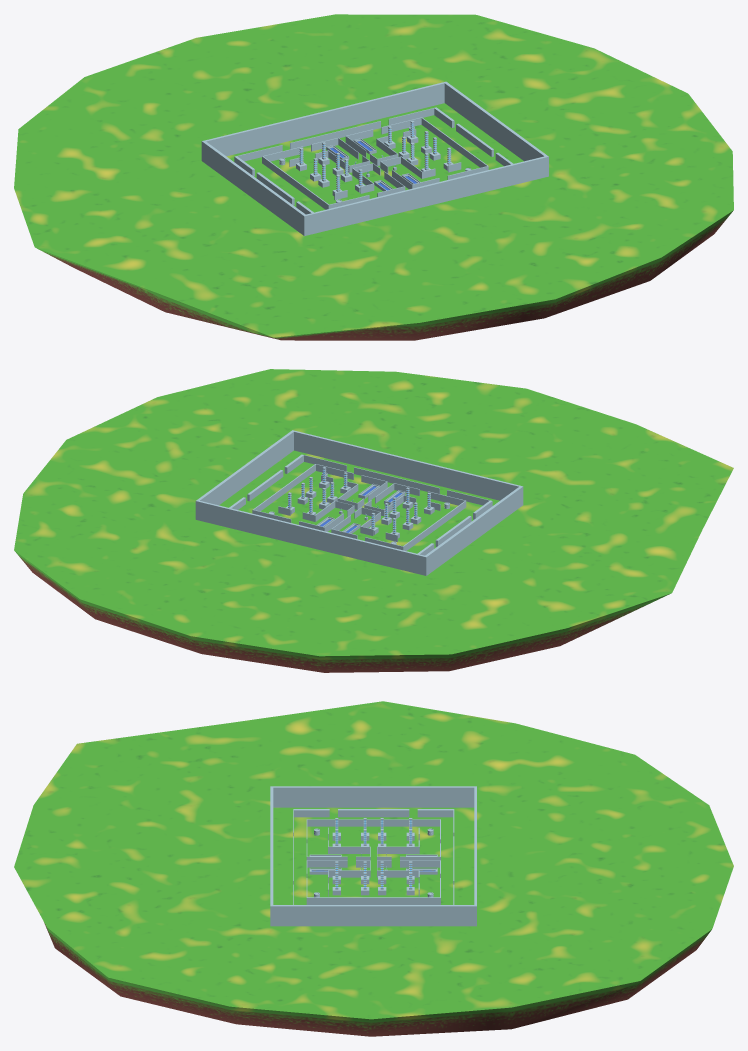
File: room_1.glb
3 renders of one model, top to bottom at view 1: azimuth 30°, elevation 25°; view 2: azimuth 150°, elevation 25°; view 3: azimuth 270°, elevation 25°, orthographic. The views are drawn at different scales.
Visible parts, largest first — view 1: island floor -col, level wall -col; view 2: island floor -col, level wall -col; view 3: island floor -col, level wall -col.
Part boxes in pixels (box(x1,y1,x2,y2)): island floor -col: box(14, 14, 733, 340); level wall -col: box(201, 81, 548, 235); island floor -col: box(14, 369, 733, 672); level wall -col: box(195, 430, 523, 575); island floor -col: box(14, 701, 733, 1036); level wall -col: box(270, 786, 476, 926).
Bounding box in the file's own units: 530 × 87.87 × 507.
4 materials, 1 textured.
